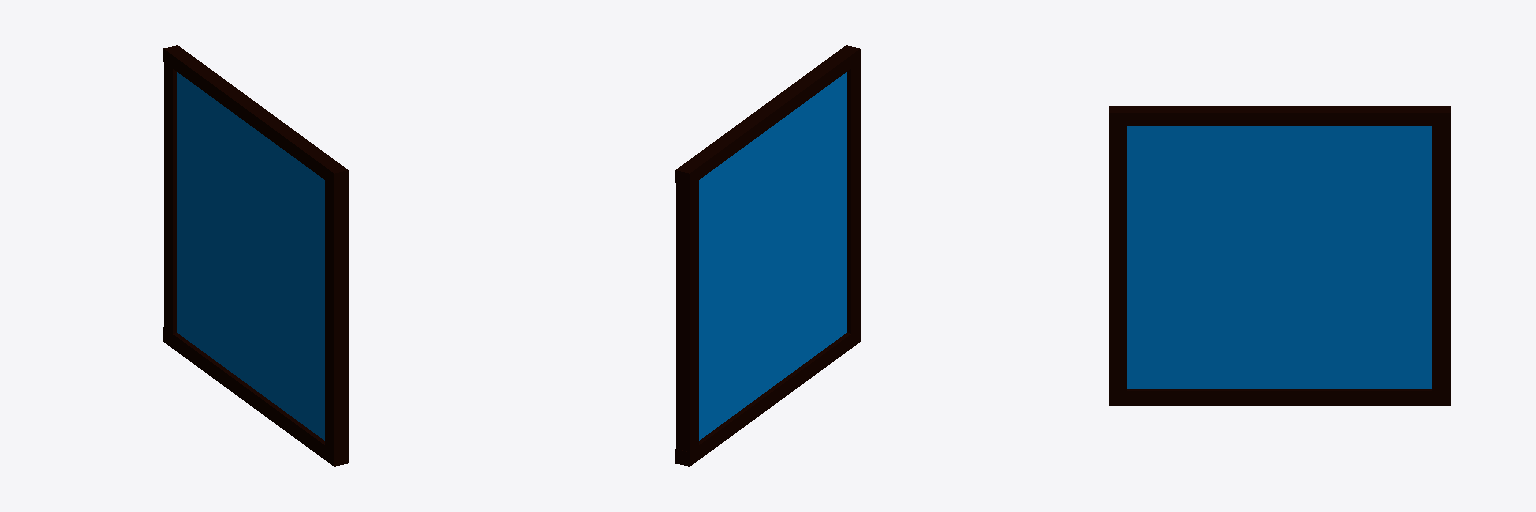
Rendered from raam.obj.
3 renders of one model, left to right at view 1: azimuth 30°, elevation 25°; view 2: azimuth 150°, elevation 25°; view 3: azimuth 270°, elevation 25°, orthographic.
Parts seen in each view (by area): view 1: Cube.004, Cube.002, Cube.001, Cube.003, Cube; view 2: Cube.004, Cube.003, Cube.001, Cube.002, Cube; view 3: Cube.004, Cube.001, Cube, Cube.003, Cube.002.
Part boxes in pixels (x1,y1,x2,y2): Cube.004: (177,72,324,440); Cube.002: (325,167,348,466); Cube.001: (163,45,345,181); Cube.003: (164,51,176,347); Cube: (163,327,332,465); Cube.004: (699,72,846,440); Cube.003: (676,169,698,451); Cube.001: (675,46,858,186); Cube.002: (845,45,860,347); Cube: (675,329,858,466); Cube.004: (1127,126,1431,388); Cube.001: (1113,106,1450,125); Cube: (1113,389,1450,405); Cube.003: (1432,113,1450,405); Cube.002: (1109,106,1126,405).
Size of the model in its own units: 0.1902 by 3.75 by 3.96.